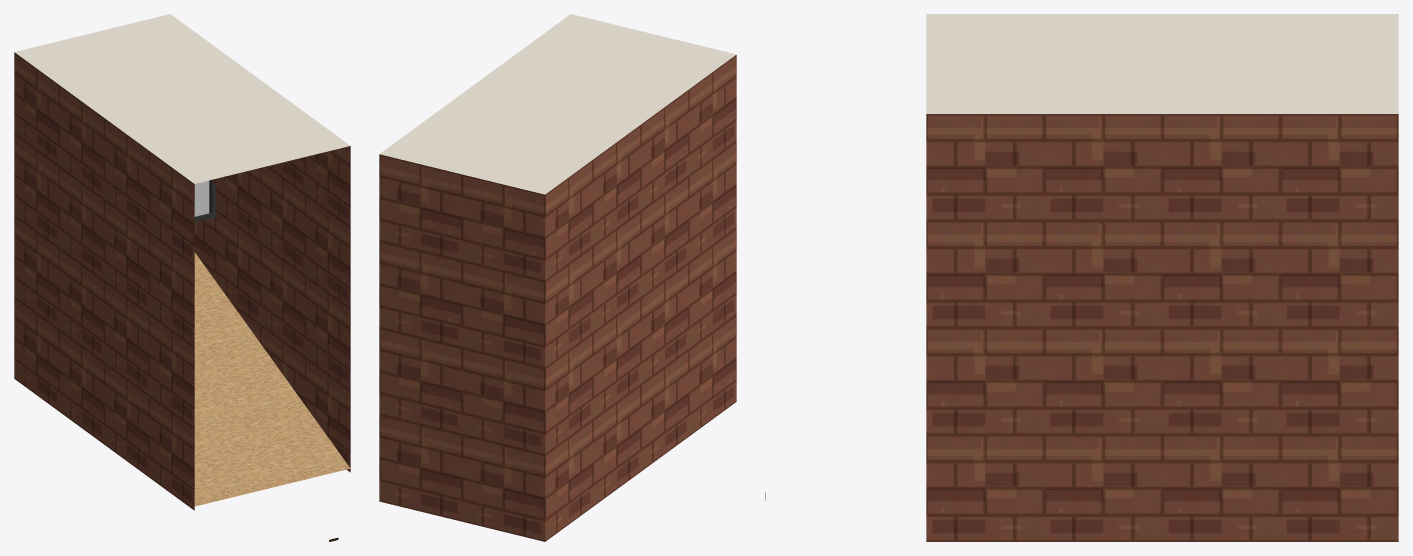
Rendered from basketball.glb.
The picture shows the model from 3 angles, left to right: view 1: azimuth 30°, elevation 25°; view 2: azimuth 150°, elevation 25°; view 3: azimuth 270°, elevation 25°; orthographic projection. The views are drawn at different scales.
Visible parts, largest first — view 1: LeftWall, RightWall, Ceiling, Floor, Cartoon Basketball Hoop; view 2: LeftWall, BackWall, Ceiling; view 3: RightWall, Ceiling.
Part boxes in pixels (x1,y1,x2,y2): LeftWall: [14, 52, 194, 510]; RightWall: [194, 146, 350, 472]; Ceiling: [14, 14, 350, 183]; Floor: [194, 252, 350, 506]; Cartoon Basketball Hoop: [194, 179, 215, 222]; LeftWall: [545, 55, 736, 541]; BackWall: [379, 154, 545, 541]; Ceiling: [379, 14, 736, 194]; RightWall: [926, 114, 1398, 541]; Ceiling: [926, 14, 1398, 113].
Size of the model in its own units: 2 by 4.06 by 5.36.
Materials: 16 (4 with a texture image).
